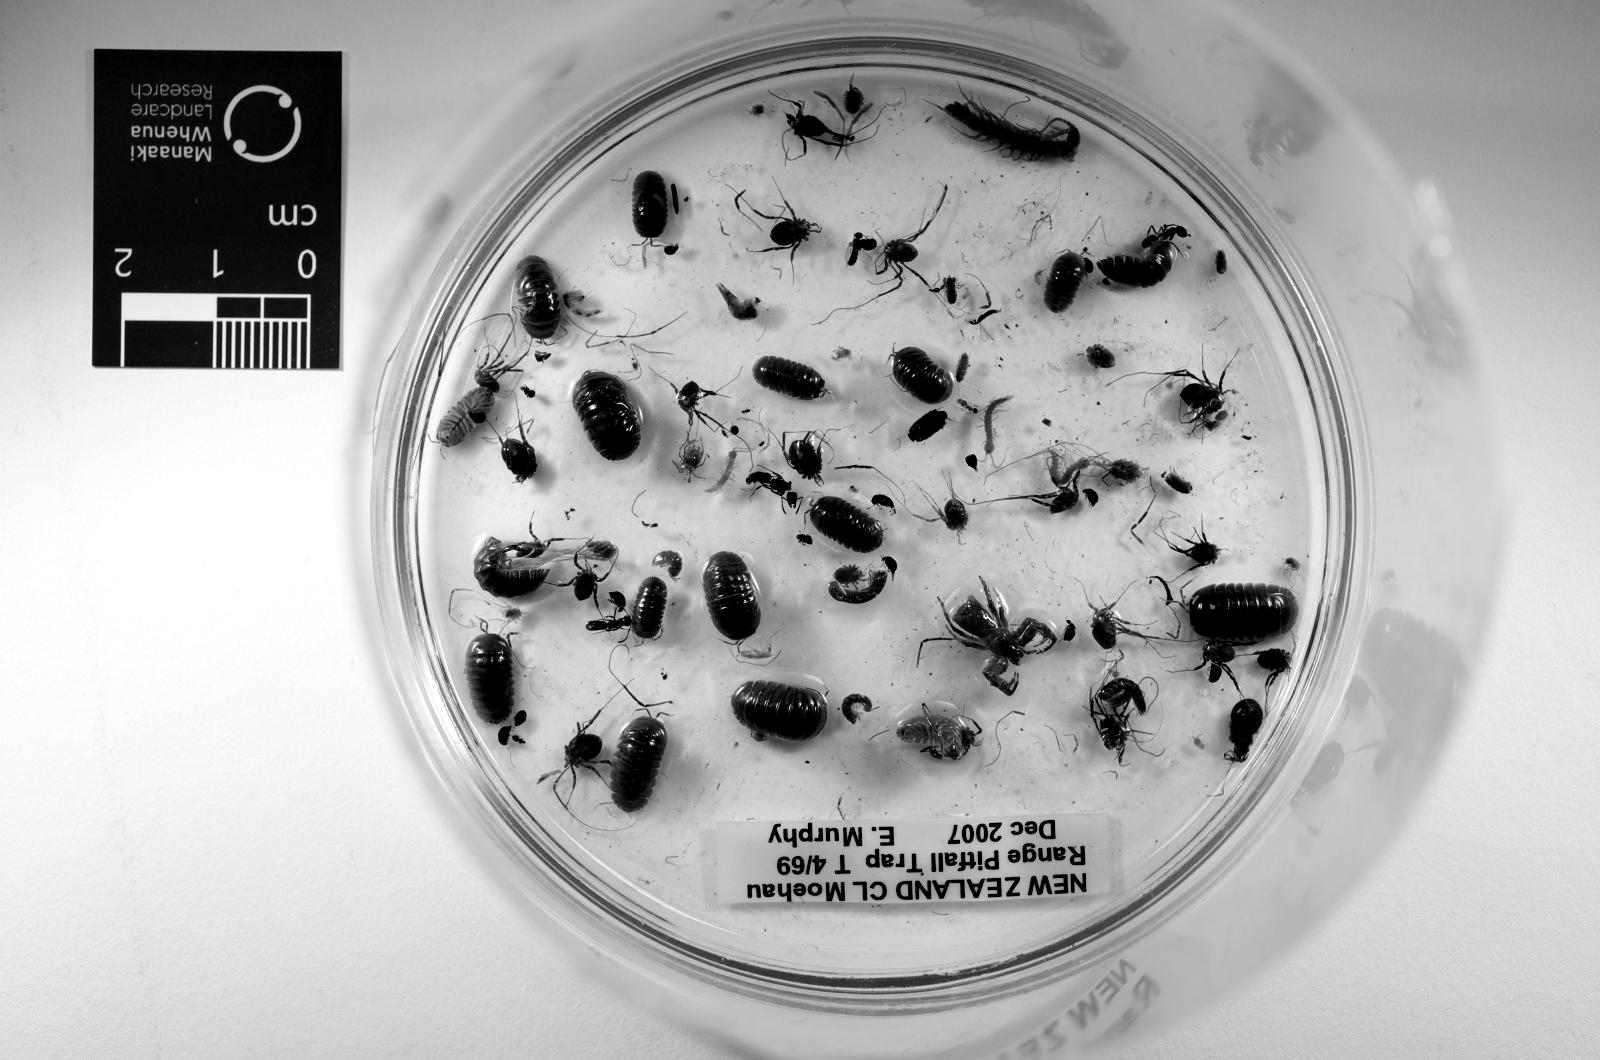acari: (662, 245, 678, 255)
araneae: (944, 578, 1056, 696)
chilopoda: (938, 93, 1081, 161), (706, 447, 747, 494), (984, 394, 1012, 460), (1047, 447, 1091, 488)
coleoptera: (966, 307, 1003, 338), (1062, 621, 1078, 643), (872, 494, 894, 509), (609, 590, 625, 609), (881, 556, 897, 575), (1209, 665, 1222, 683), (497, 727, 509, 745), (516, 711, 528, 727)
diptera: (797, 534, 812, 547)
formicidae: (747, 472, 803, 516), (1141, 224, 1191, 248), (584, 612, 631, 634), (956, 398, 978, 413)
isopoda: (1188, 584, 1297, 643), (572, 370, 641, 460), (731, 680, 828, 742), (609, 717, 666, 814), (703, 553, 759, 643), (466, 634, 516, 724), (475, 537, 547, 596), (809, 497, 884, 553), (1097, 239, 1175, 289), (516, 255, 562, 338), (434, 385, 494, 447), (897, 711, 969, 761), (891, 348, 953, 404), (753, 357, 825, 401), (1044, 252, 1091, 314), (631, 171, 669, 239), (631, 578, 666, 640), (828, 571, 888, 602), (1097, 677, 1147, 714), (909, 410, 947, 441), (841, 696, 872, 724), (653, 550, 681, 578)
opiliones: (875, 186, 947, 292), (541, 711, 609, 792), (1091, 674, 1147, 761), (1162, 366, 1228, 425), (784, 102, 856, 155), (759, 199, 819, 261), (1091, 602, 1159, 649), (675, 382, 728, 435), (559, 556, 609, 609), (500, 419, 538, 484), (475, 348, 525, 394), (1225, 699, 1262, 761), (781, 432, 825, 484), (1169, 528, 1219, 568), (1009, 488, 1078, 512), (1203, 640, 1238, 686), (506, 531, 562, 559), (1091, 457, 1144, 484), (934, 494, 969, 534), (675, 438, 706, 481), (1256, 649, 1291, 686), (562, 540, 619, 562), (1088, 345, 1116, 370), (844, 84, 866, 115), (834, 565, 862, 584), (1281, 559, 1300, 578), (503, 609, 522, 621)
pseudoscorpiones: (931, 276, 956, 304)
